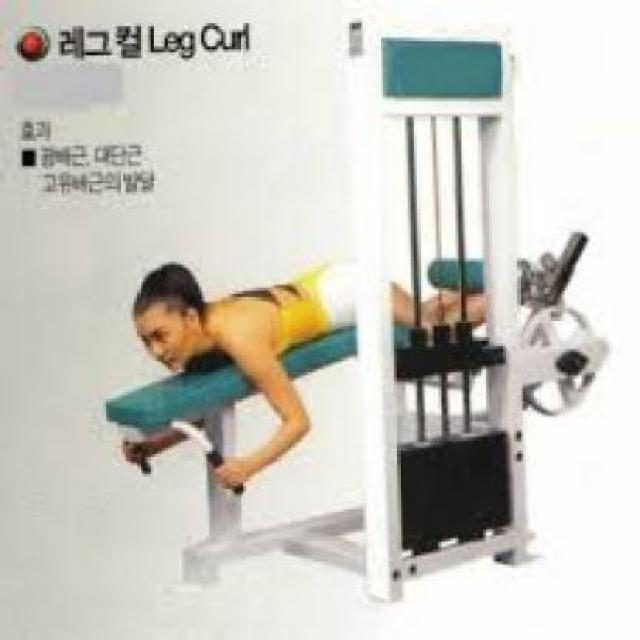reg curl machine: (102, 23, 609, 606)
